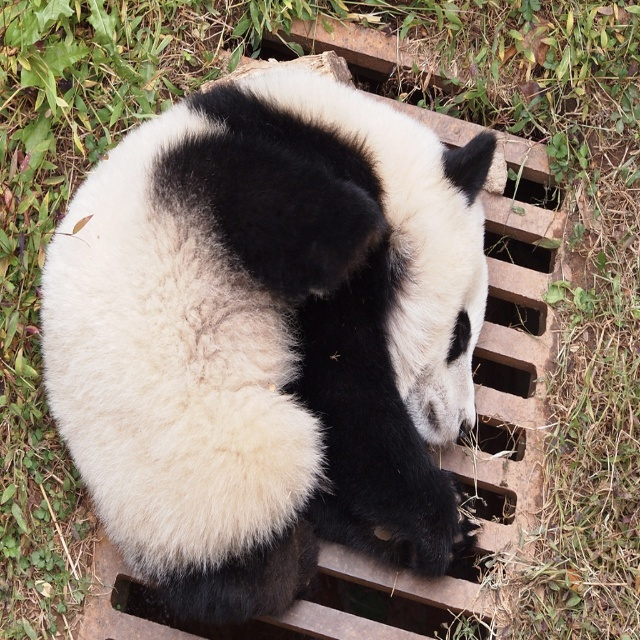Panda: (8, 45, 515, 640)
